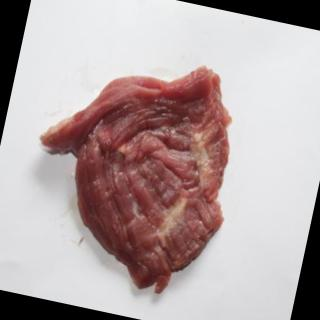Daging Sapi: (14, 37, 253, 307)
